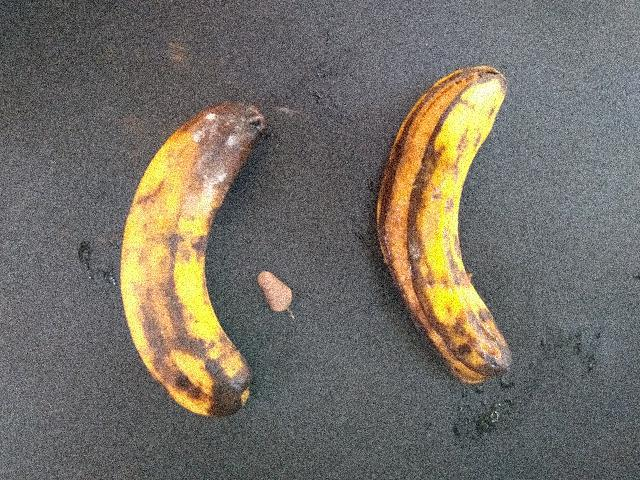rotten: (348, 39, 553, 400), (104, 91, 299, 466)
